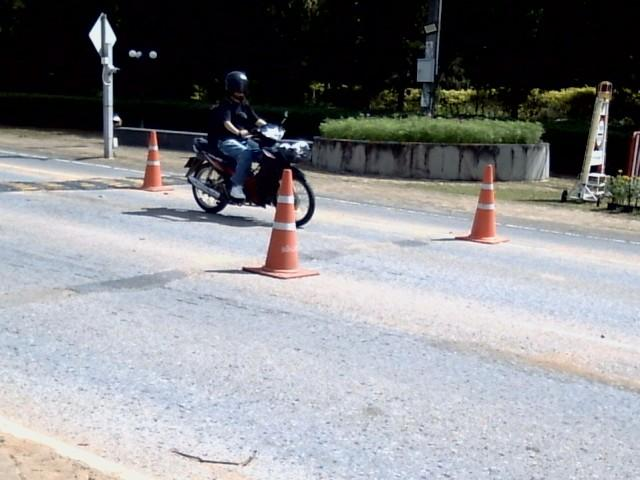helmet: (226, 71, 248, 94)
motor: (184, 124, 314, 226)
person: (209, 71, 266, 199)
